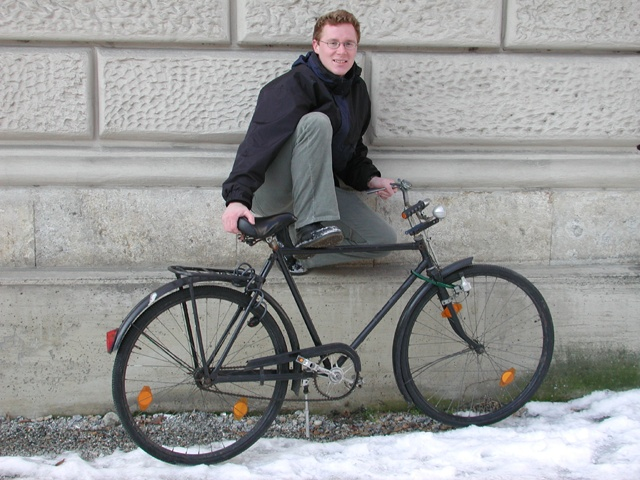person: (223, 10, 395, 374)
